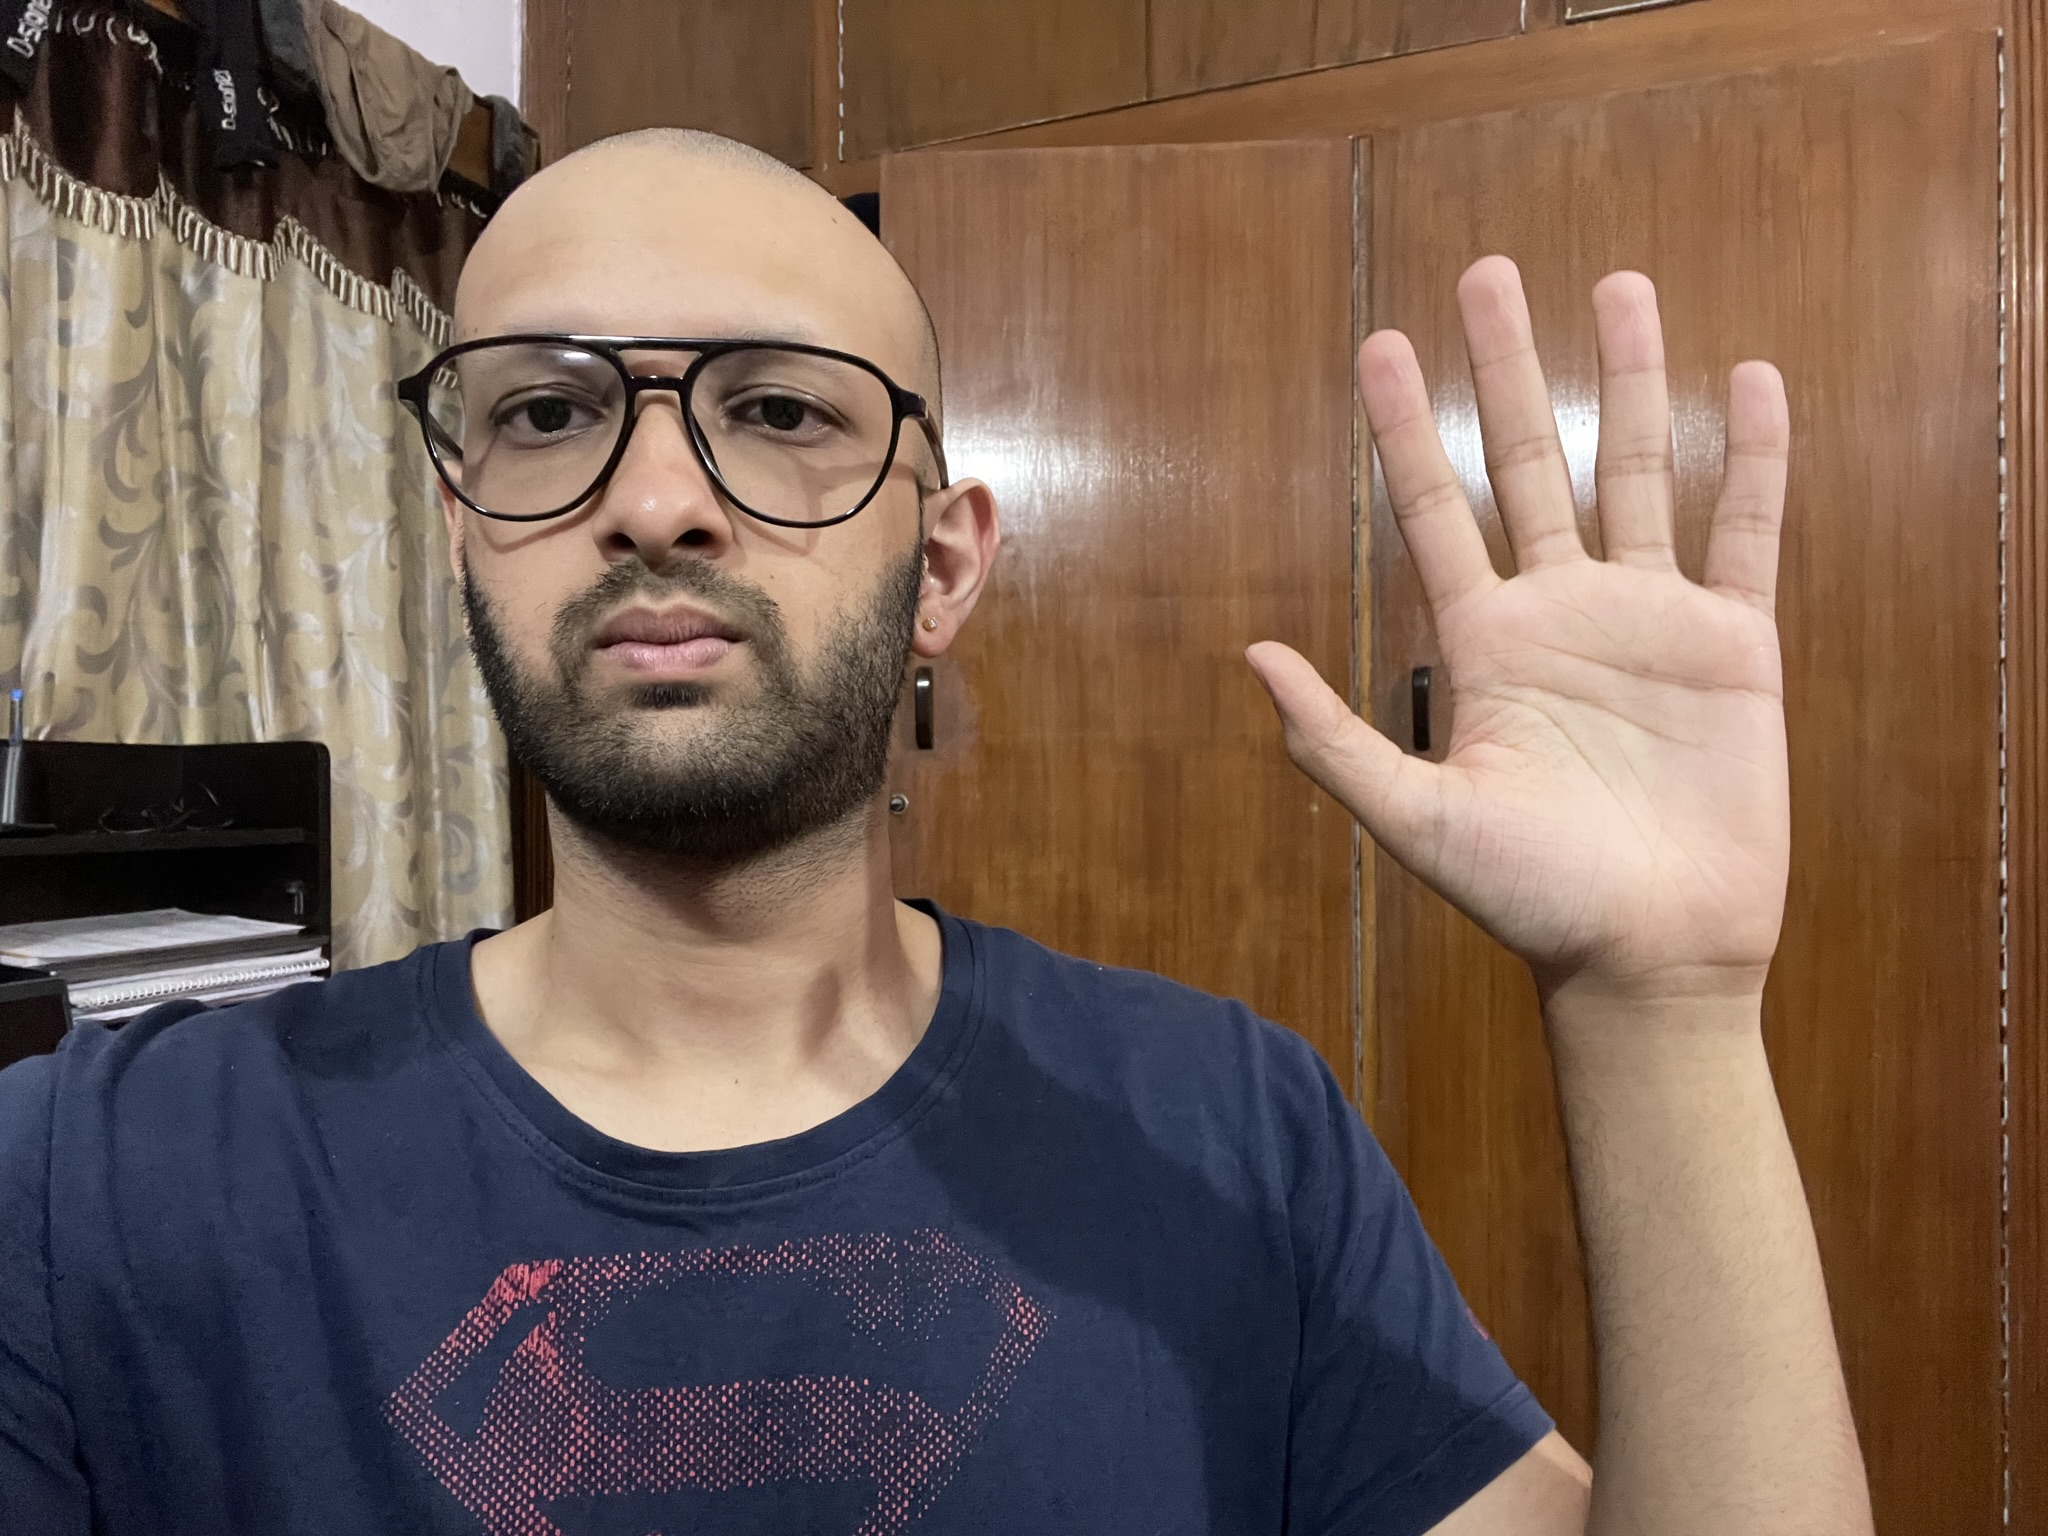Hello: (1238, 240, 1832, 1015)
